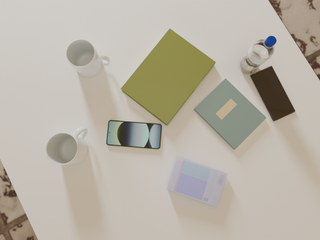book: (121, 29, 216, 125), (194, 78, 266, 149), (167, 157, 227, 207)
bottle: (240, 36, 276, 73)
cup: (66, 39, 110, 77), (46, 126, 88, 165)
phone: (251, 66, 295, 121), (106, 120, 162, 149)
